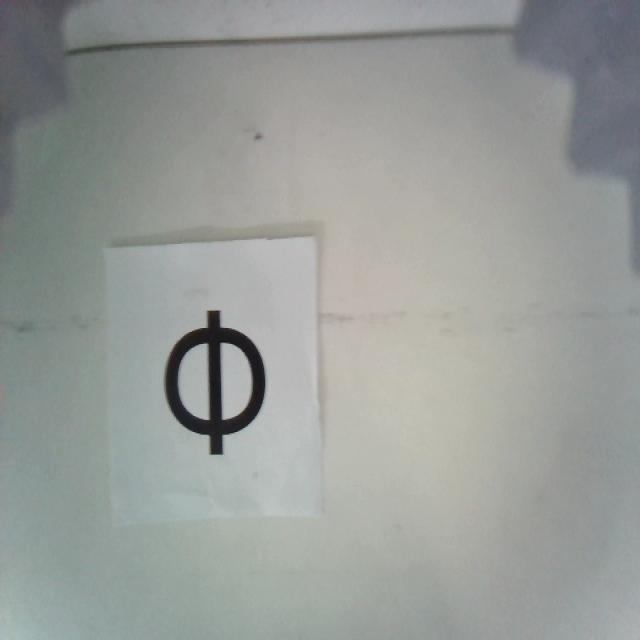F: (166, 307, 268, 458)
